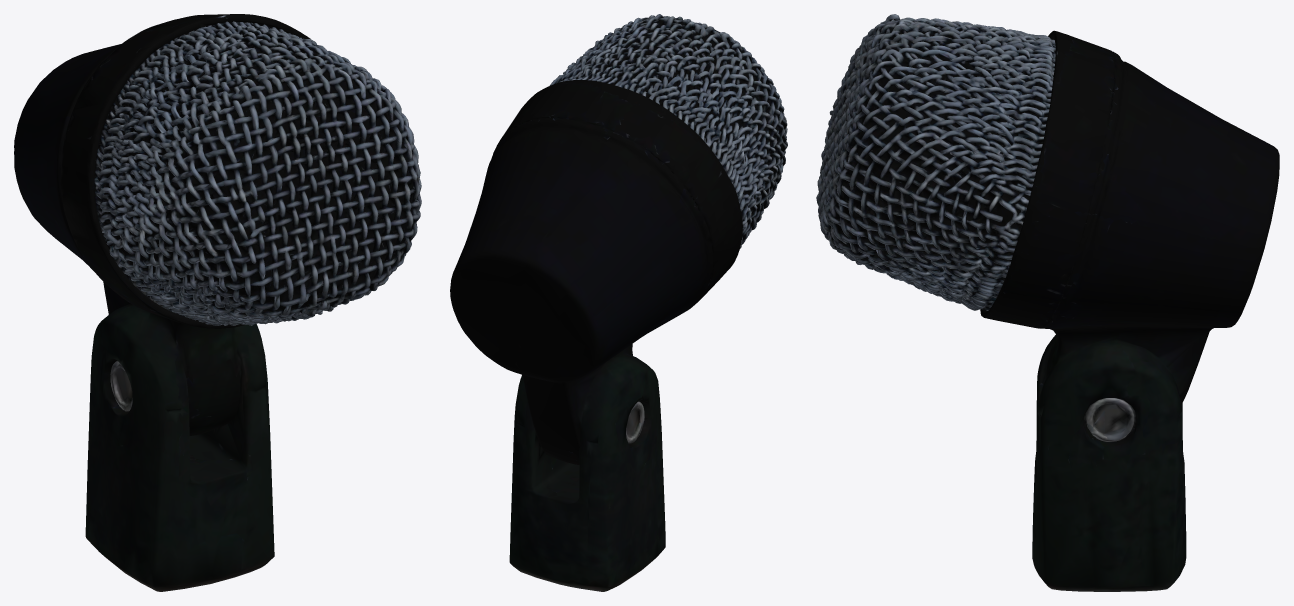
Rendered from Sennheiser e 904.glb.
3 renders of one model, left to right at view 1: azimuth 30°, elevation 25°; view 2: azimuth 150°, elevation 25°; view 3: azimuth 270°, elevation 25°, orthographic. The views are drawn at different scales.
Visible parts, largest first — view 1: geometry_0; view 2: geometry_0; view 3: geometry_0.
Part boxes in pixels (left/top/right/bottom): geometry_0: left=14, top=14, right=421, bottom=591; geometry_0: left=450, top=14, right=787, bottom=591; geometry_0: left=816, top=14, right=1279, bottom=591.
Bounding box in the file's own units: 1 × 2 × 1.56.
1 material, 1 textured.
